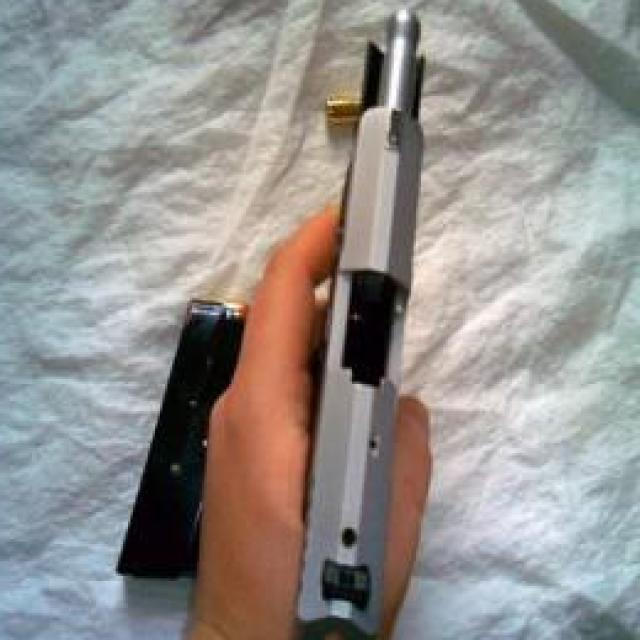pistol: (288, 5, 426, 640)
